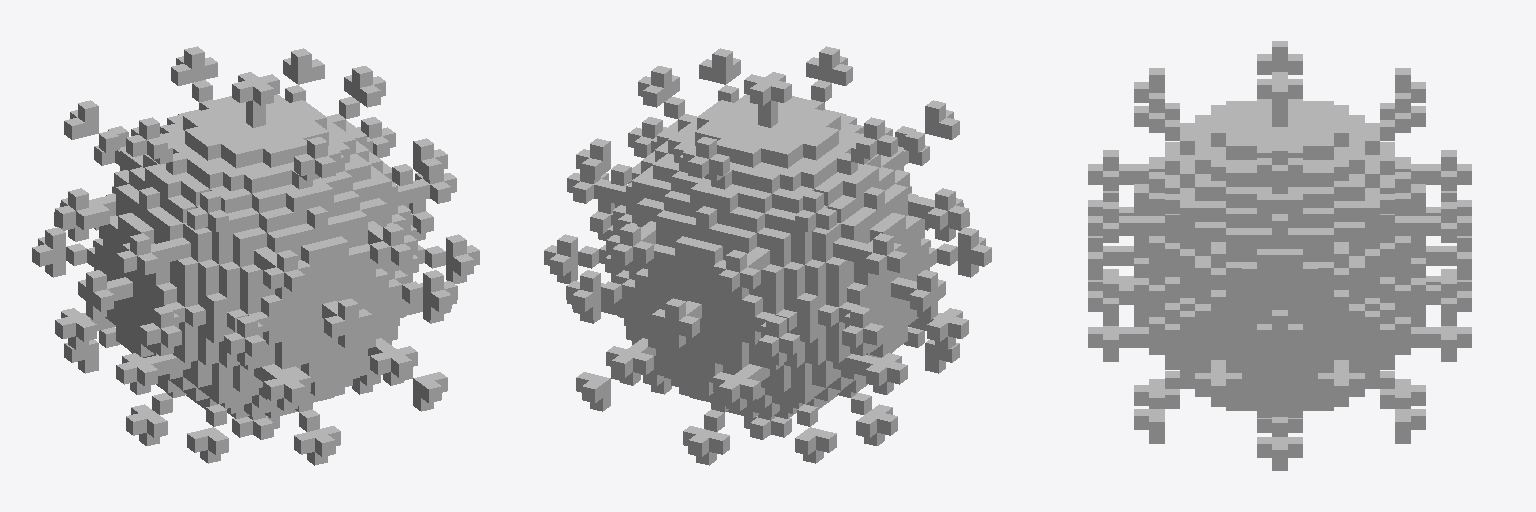
The model's file is coronavirus_2.obj.
3 views of the same model, side by side, from view 1: azimuth 30°, elevation 25°; view 2: azimuth 150°, elevation 25°; view 3: azimuth 270°, elevation 25° (orthographic).
Parts seen in each view (by area): view 1: coronavirus_2.003_coronavirus_2.003; view 2: coronavirus_2.003_coronavirus_2.003; view 3: coronavirus_2.003_coronavirus_2.003.
Boxes of the visible parts, x1=… form: coronavirus_2.003_coronavirus_2.003: x1=32, y1=46, x2=479, y2=465; coronavirus_2.003_coronavirus_2.003: x1=544, y1=46, x2=991, y2=465; coronavirus_2.003_coronavirus_2.003: x1=1088, y1=41, x2=1471, y2=470.
Size of the model in its own units: 25 by 25 by 25.